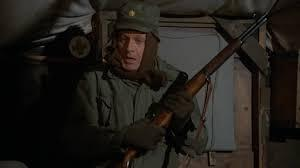rifle: (113, 9, 272, 168)
